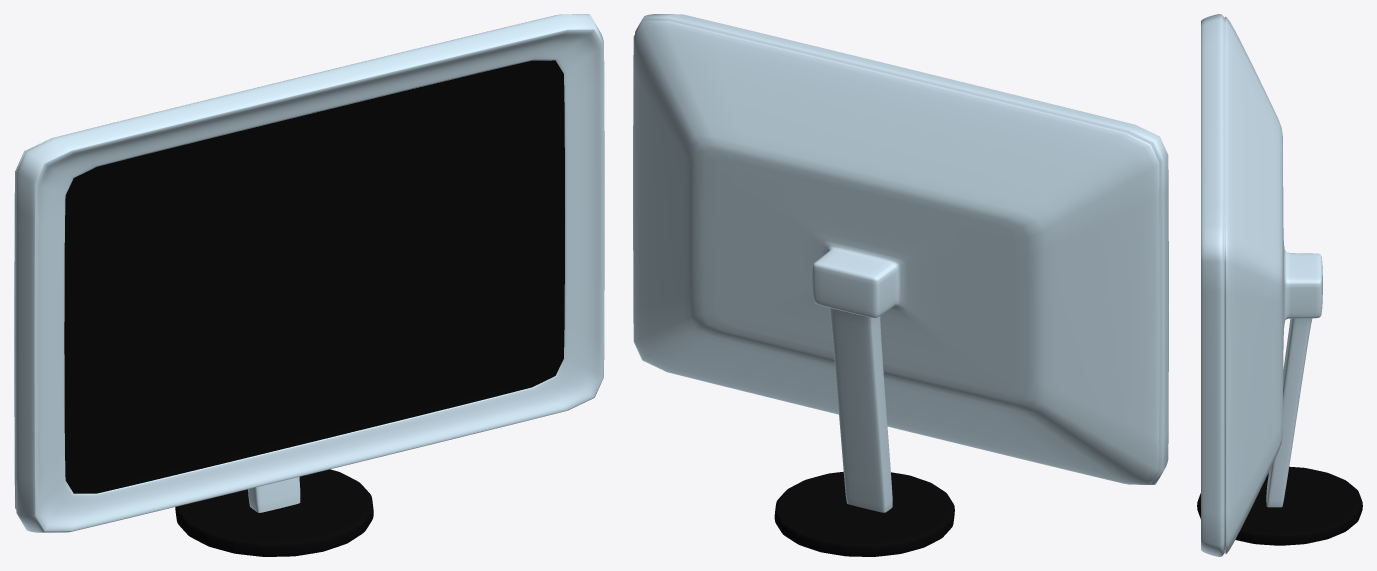
Rendered from desktop.fbx.
3 renders of one model, left to right at view 1: azimuth 30°, elevation 25°; view 2: azimuth 150°, elevation 25°; view 3: azimuth 270°, elevation 25°, orthographic. The views are drawn at different scales.
Visible parts, largest first — view 1: pCube97; view 2: pCube97; view 3: pCube97.
Part boxes in pixels (x1,y1,x2,y2): pCube97: (14, 14, 604, 556); pCube97: (633, 14, 1168, 556); pCube97: (1197, 14, 1362, 556).
Bounding box in the file's own units: 1.25 × 0.9572 × 0.3696.
